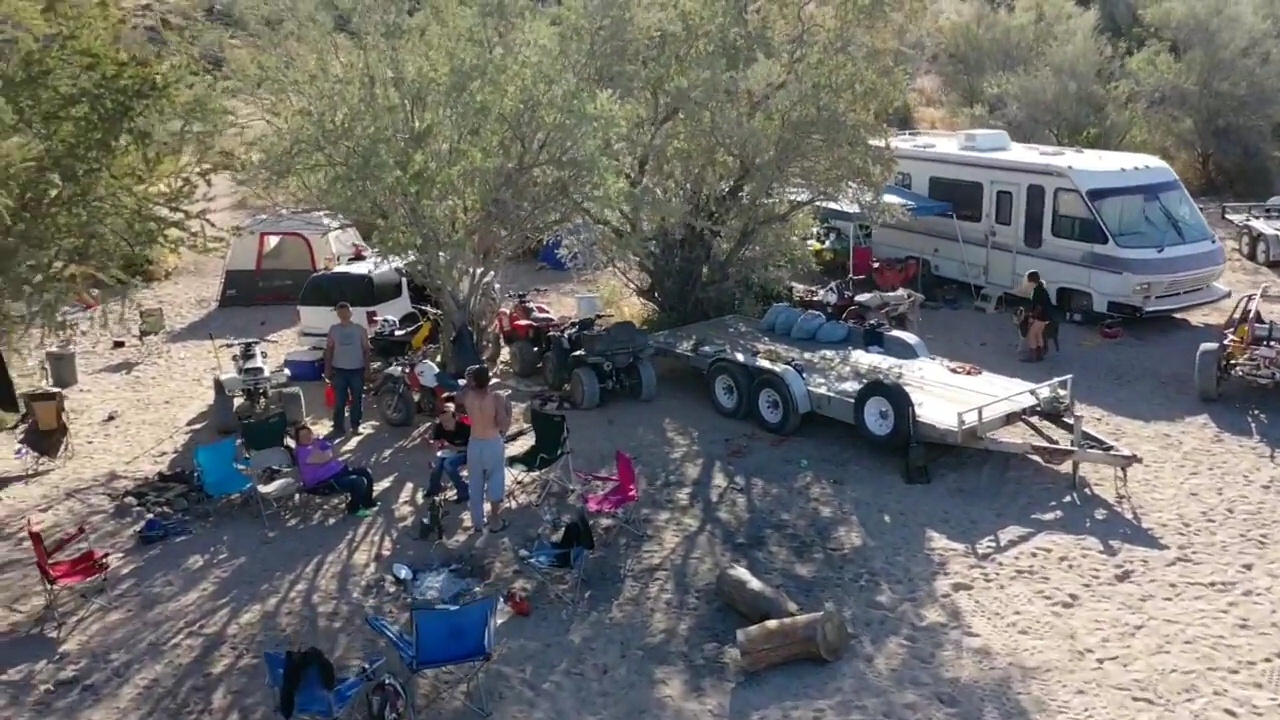insan: (454, 365, 511, 531), (292, 417, 377, 527), (323, 299, 371, 438), (421, 400, 472, 504), (1016, 267, 1058, 364)
otobus: (863, 122, 1227, 325)
